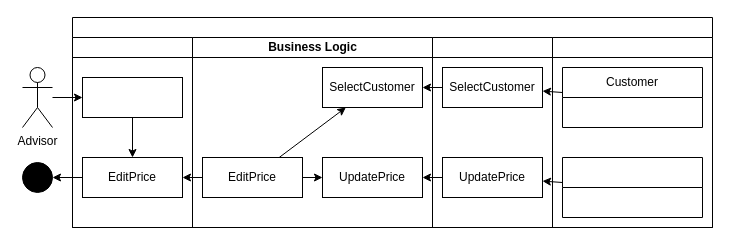
Image size: 730x245. Some labels were removed from this diagram. Each missing label, with the box of its shape:
Controller: (72, 36, 192, 228)
Initialize: (82, 76, 182, 118)
Model: (552, 36, 712, 228)
Price: (562, 156, 702, 218)
Repository: (432, 36, 552, 228)
